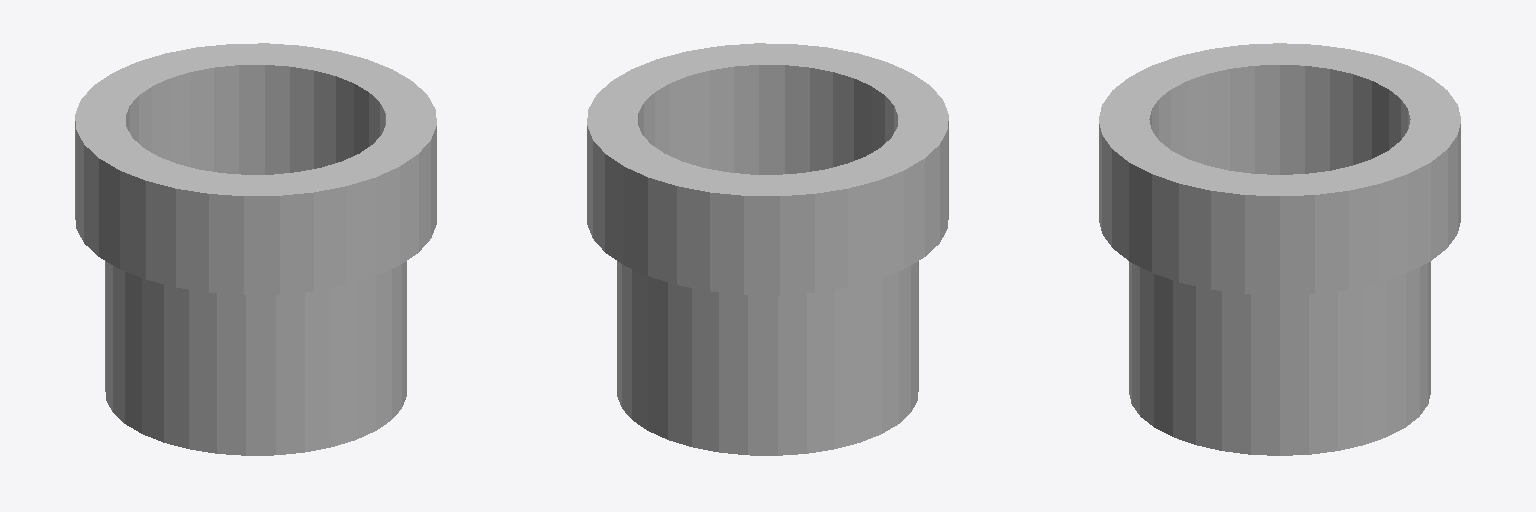
File: warp_pipe_castle_water.obj
3 views of the same model, side by side, from view 1: azimuth 30°, elevation 25°; view 2: azimuth 150°, elevation 25°; view 3: azimuth 270°, elevation 25° (orthographic).
Parts seen in each view (by area): view 1: Cylinder; view 2: Cylinder; view 3: Cylinder.
Boxes of the visible parts, x1=… form: Cylinder: x1=75, y1=43, x2=436, y2=455; Cylinder: x1=587, y1=43, x2=948, y2=455; Cylinder: x1=1099, y1=43, x2=1460, y2=455.
Size of the model in its own units: 4.8 by 3.98 by 4.8.